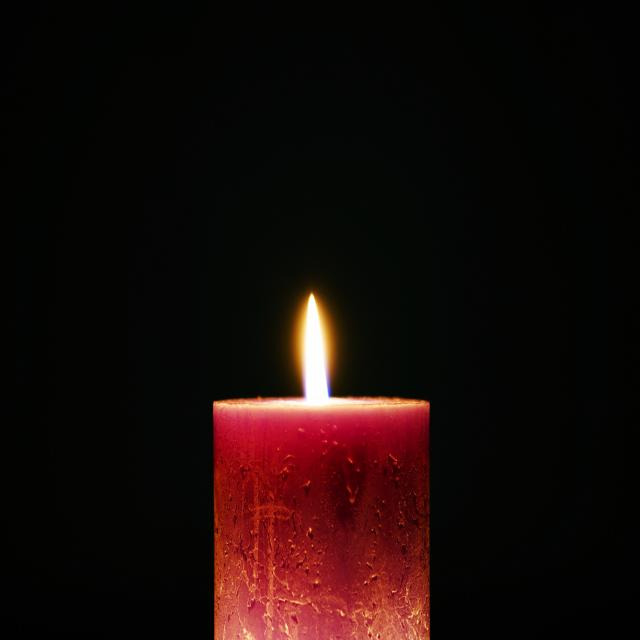fire: (285, 267, 343, 395)
